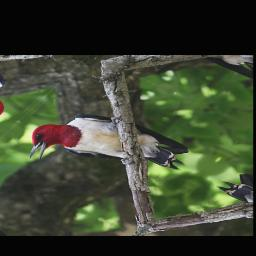Woodpecker: (11, 93, 204, 209)
